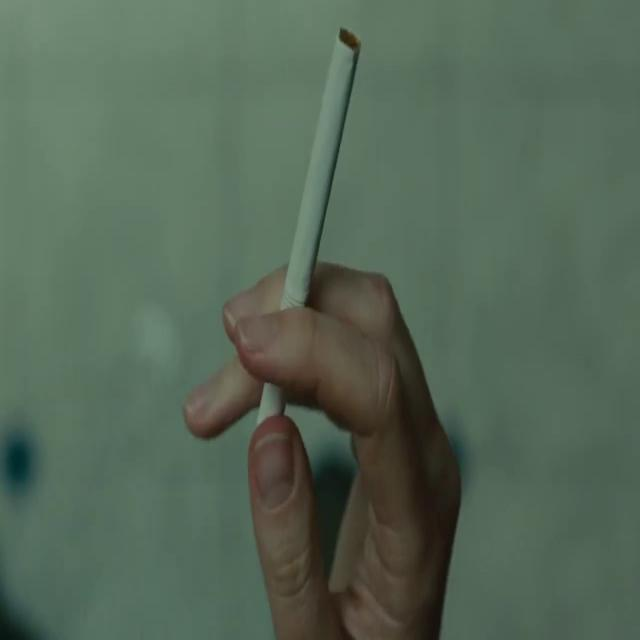Smooking: (250, 16, 373, 448)
